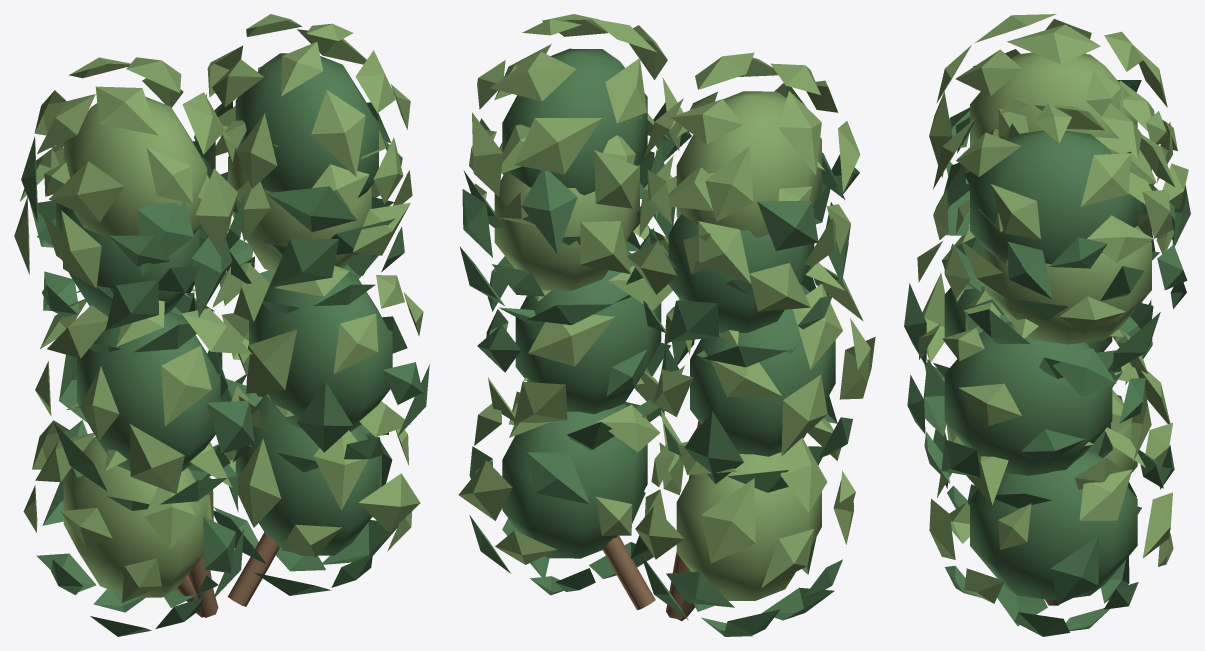
File: hedge.short-new.glb
3 renders of one model, left to right at view 1: azimuth 30°, elevation 25°; view 2: azimuth 150°, elevation 25°; view 3: azimuth 270°, elevation 25°, orthographic. The views are drawn at different scales.
Parts seen in each view (by area): view 1: Low woody shoot; view 2: Low woody shoot; view 3: Low woody shoot.
Boxes of the visible parts, x1,y1,x2,y2 form: Low woody shoot: (14,14,429,636); Low woody shoot: (458,14,875,636); Low woody shoot: (904,14,1190,636).
Bounding box in the file's own units: 0.5308 × 0.8157 × 0.3962.
